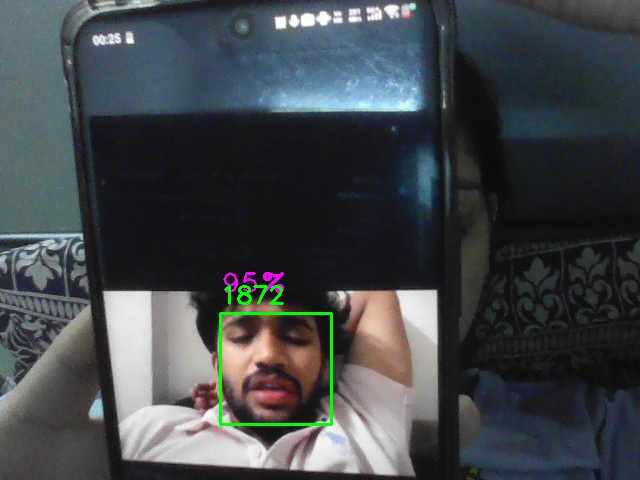fake: (220, 313, 332, 425)
